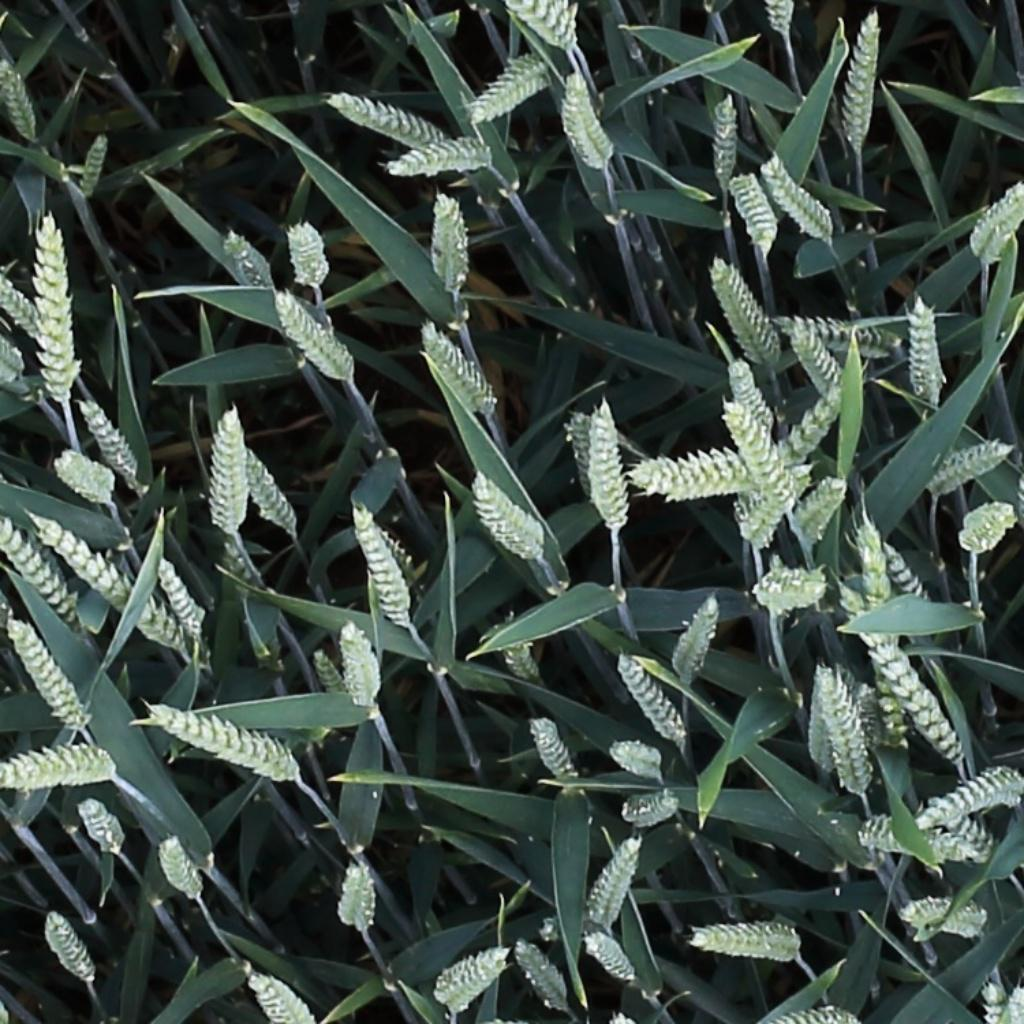0-0: (836, 572, 971, 756), (30, 514, 179, 653), (135, 696, 300, 779), (845, 516, 923, 670), (750, 387, 853, 498), (8, 514, 107, 623), (723, 397, 822, 505), (5, 613, 90, 734), (0, 503, 81, 622), (733, 459, 818, 559), (0, 737, 125, 803), (903, 761, 1022, 830), (352, 502, 416, 629), (271, 285, 354, 382), (35, 207, 75, 408), (615, 649, 692, 752), (711, 255, 780, 368), (625, 446, 748, 507), (419, 320, 499, 413), (761, 151, 839, 241), (820, 664, 872, 798), (469, 473, 543, 563), (236, 443, 304, 540), (73, 393, 144, 484), (898, 540, 969, 631), (561, 402, 620, 507), (772, 309, 901, 357), (330, 91, 445, 144), (199, 404, 245, 536), (854, 805, 956, 863), (845, 8, 884, 154), (494, 612, 559, 699), (591, 835, 647, 933), (151, 552, 207, 644), (673, 591, 724, 692), (512, 933, 573, 1015), (565, 69, 613, 172), (488, 0, 593, 47), (40, 906, 99, 989), (47, 441, 125, 503), (309, 644, 363, 730), (592, 397, 626, 533), (689, 922, 801, 963), (727, 353, 782, 436), (929, 441, 1011, 495), (970, 183, 1022, 265), (528, 715, 584, 791), (245, 969, 323, 1023), (473, 62, 548, 118), (791, 323, 847, 398), (438, 950, 510, 1008), (426, 188, 468, 287), (386, 139, 495, 177), (731, 166, 779, 249), (794, 473, 850, 543), (756, 566, 823, 624), (809, 662, 842, 779), (928, 805, 998, 860), (221, 226, 277, 294), (0, 51, 40, 144), (285, 213, 335, 287), (341, 619, 379, 714), (0, 263, 45, 342), (907, 293, 940, 400), (159, 834, 206, 909), (75, 795, 126, 862), (866, 681, 909, 760), (326, 864, 376, 929), (585, 931, 641, 985), (961, 505, 1017, 554), (715, 91, 741, 193), (900, 896, 953, 943), (766, 999, 865, 1024), (80, 129, 113, 198), (611, 744, 664, 776), (622, 798, 682, 826), (944, 902, 994, 934), (770, 0, 795, 42)
